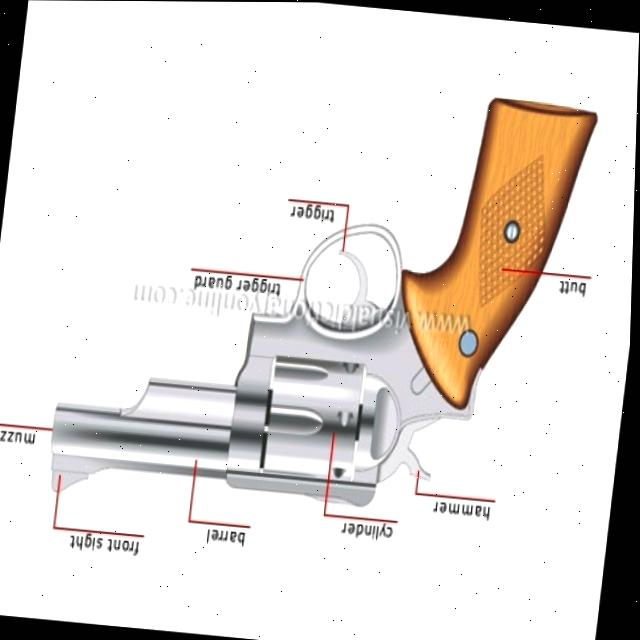pistol: (43, 48, 602, 544)
